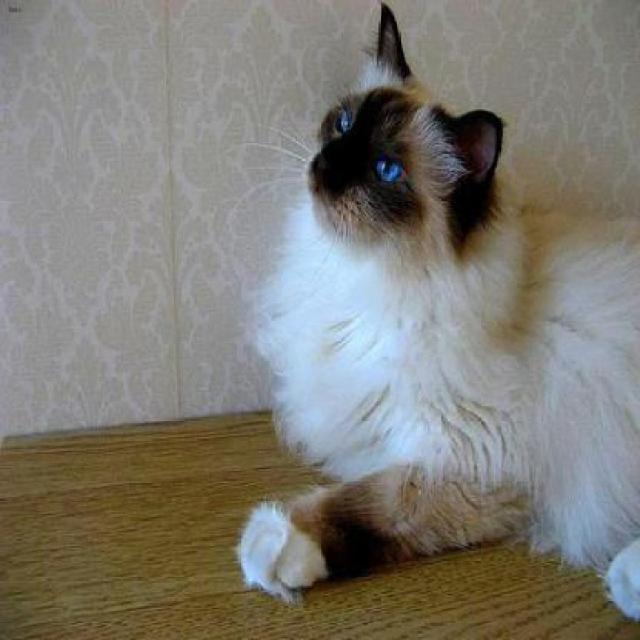cat: (243, 0, 639, 620)
